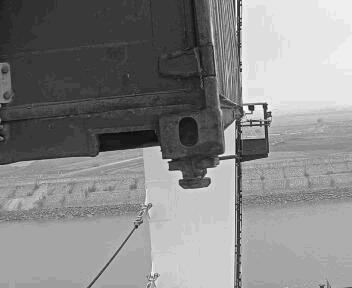twist_lock_1: (152, 190, 246, 244)
